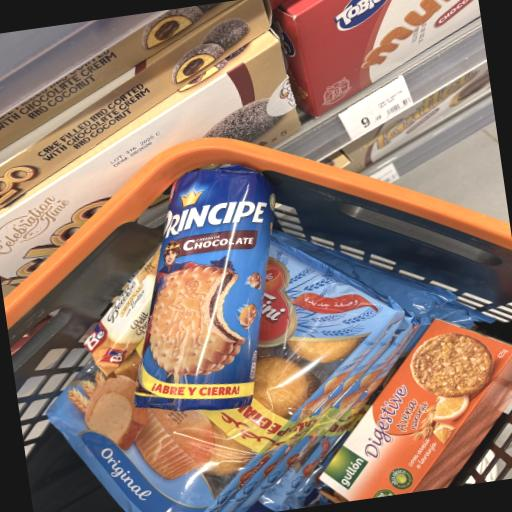prince: (86, 121, 344, 450)
